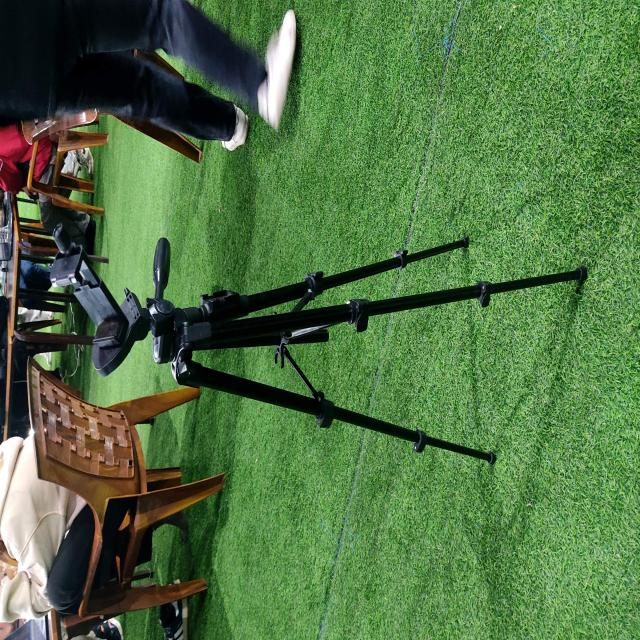Chair: (26, 355, 226, 639)
